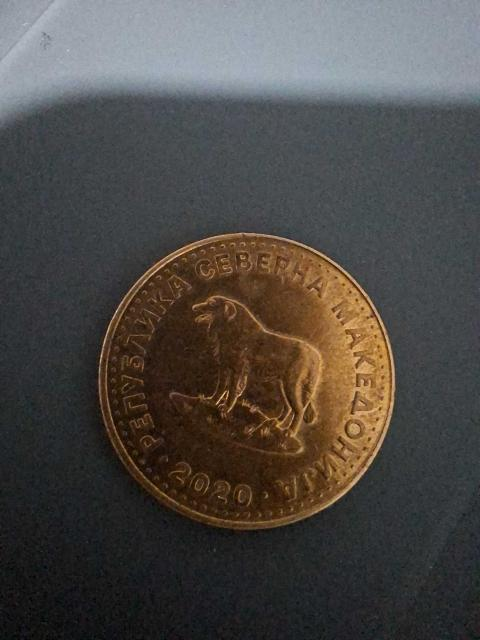coin: (100, 234, 394, 529)
